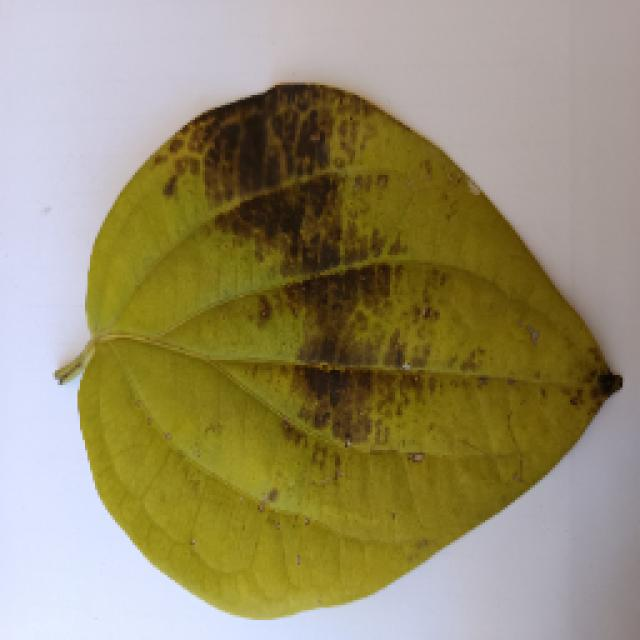slow-decline: (22, 93, 608, 625)
